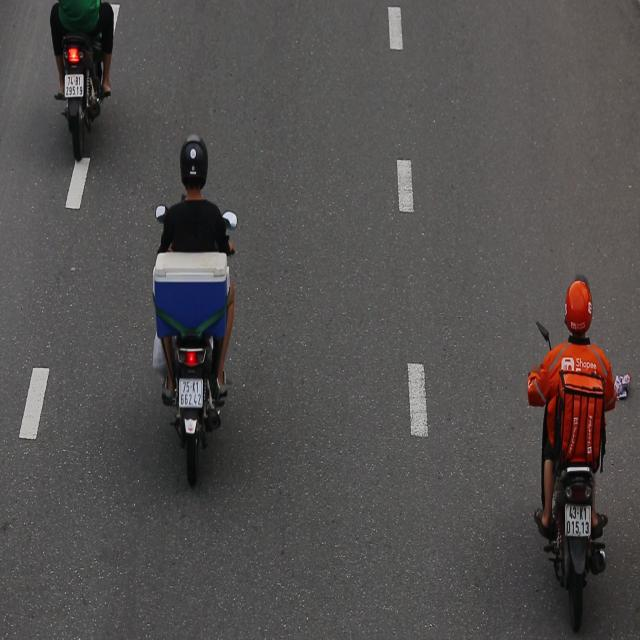motorbike: (520, 271, 628, 632), (147, 131, 239, 479)
